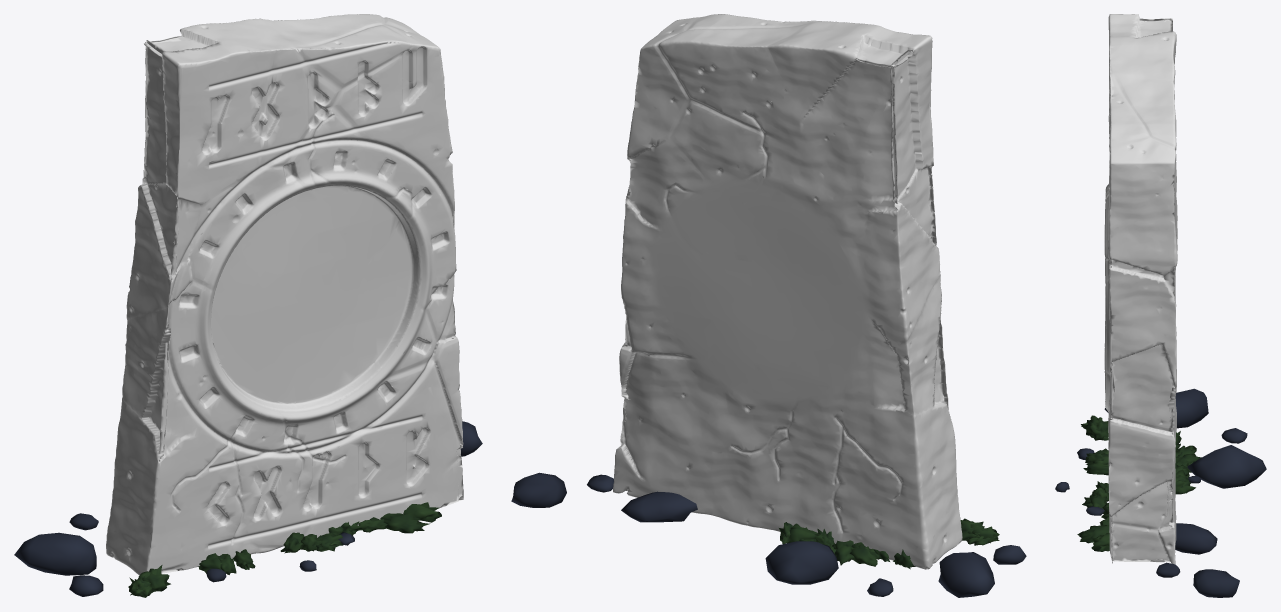
File: runestone_a.glb
3 views of the same model, side by side, from view 1: azimuth 30°, elevation 25°; view 2: azimuth 150°, elevation 25°; view 3: azimuth 270°, elevation 25° (orthographic). The views are drawn at different scales.
Visible parts, largest first — view 1: Stone, Debris; view 2: Stone, Debris; view 3: Stone, Debris.
Boxes of the visible parts, bbox=[...] form: Stone: bbox=[106, 14, 463, 575]; Debris: bbox=[14, 421, 482, 597]; Stone: bbox=[613, 14, 962, 569]; Debris: bbox=[511, 472, 1026, 597]; Stone: bbox=[1104, 14, 1177, 564]; Debris: bbox=[1055, 388, 1266, 597].
Bounding box in the file's own units: 5.3 × 5.5 × 2.42.
